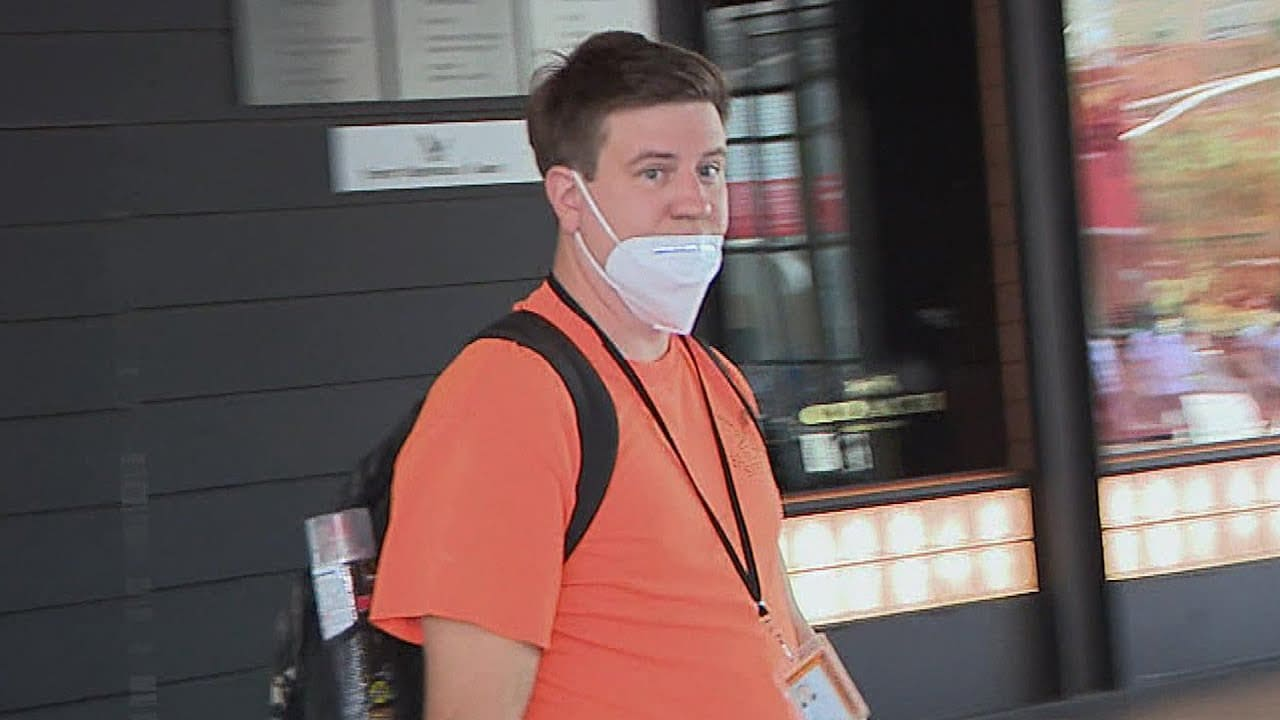with_incorrect_mask: (580, 92, 728, 333)
